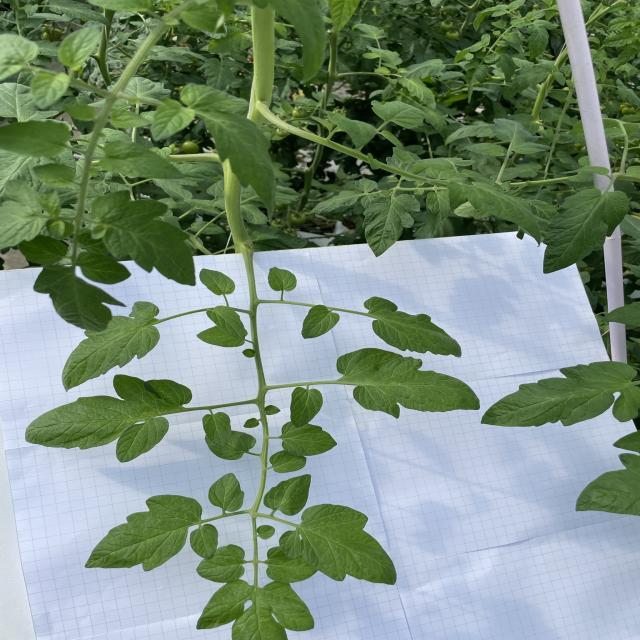Tomato healthy leaf: (24, 374, 193, 462), (481, 360, 640, 428), (84, 493, 220, 572), (89, 189, 198, 287), (336, 348, 481, 418), (280, 503, 398, 586), (61, 300, 160, 392), (202, 110, 278, 224), (543, 188, 629, 276), (195, 579, 315, 640), (31, 265, 128, 333), (446, 180, 542, 248), (252, 0, 326, 84), (363, 296, 462, 358), (364, 193, 421, 258), (98, 139, 186, 180), (0, 178, 43, 252), (576, 467, 640, 516), (0, 119, 72, 157), (0, 80, 60, 121), (502, 64, 566, 100), (490, 118, 552, 155), (322, 109, 377, 150), (57, 24, 101, 72), (281, 420, 338, 457), (266, 545, 320, 584), (180, 82, 250, 111), (264, 474, 312, 516), (78, 248, 132, 284), (197, 544, 246, 583), (151, 101, 196, 142), (371, 100, 427, 130), (196, 58, 245, 92), (205, 304, 248, 342), (47, 0, 111, 25), (29, 72, 71, 110), (205, 432, 258, 461), (18, 234, 68, 264), (208, 472, 245, 512), (206, 24, 252, 54), (308, 190, 359, 217), (302, 304, 341, 339), (398, 77, 438, 111), (290, 386, 322, 428), (444, 121, 494, 147), (526, 20, 558, 60), (194, 324, 247, 348), (31, 162, 77, 188), (412, 156, 476, 174), (122, 77, 172, 100), (452, 34, 490, 64), (328, 0, 362, 33), (202, 411, 232, 447), (198, 268, 236, 296), (499, 160, 544, 182), (108, 108, 152, 130), (474, 4, 508, 32), (269, 449, 307, 474), (401, 59, 447, 79), (426, 190, 452, 222), (268, 266, 298, 292), (158, 184, 194, 204), (240, 202, 270, 226), (350, 23, 388, 40), (496, 52, 516, 82), (187, 220, 227, 235), (467, 142, 506, 156), (381, 130, 405, 151), (560, 166, 610, 176), (183, 198, 215, 210), (354, 177, 378, 192), (502, 32, 524, 46), (23, 3, 39, 17), (526, 10, 546, 20), (116, 30, 130, 44), (508, 0, 526, 10)
